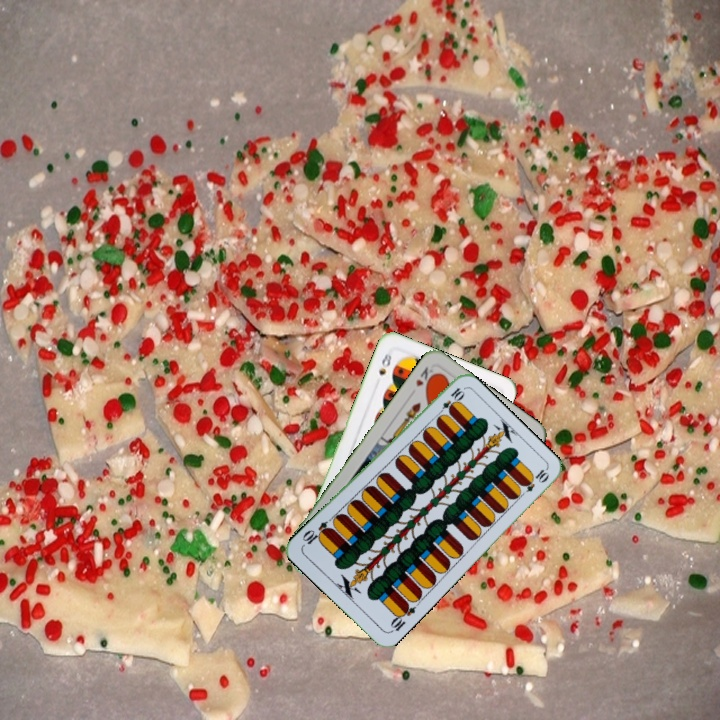E10: (433, 383, 466, 419), (386, 599, 418, 635)
HK: (412, 363, 438, 391)
S8: (375, 346, 394, 378)
